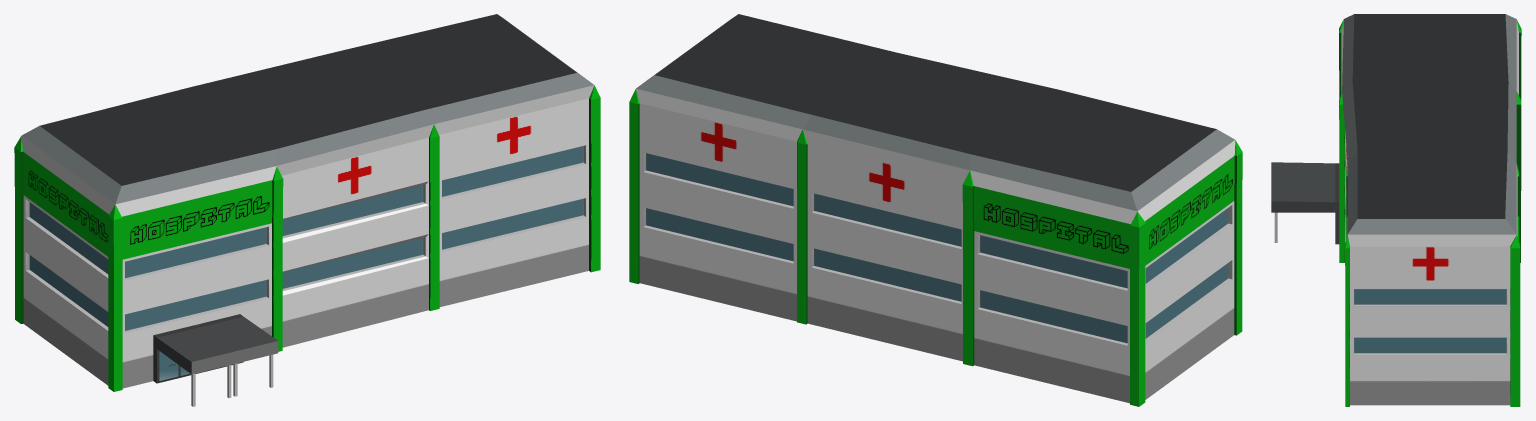
File: Hospital.fbx
3 views of the same model, side by side, from view 1: azimuth 30°, elevation 25°; view 2: azimuth 150°, elevation 25°; view 3: azimuth 270°, elevation 25° (orthographic). The views are drawn at different scales.
Visible parts, largest first — view 1: Hospital; view 2: Hospital; view 3: Hospital.
Boxes of the visible parts, x1,y1,x2,y2 form: Hospital: (14, 14, 600, 406); Hospital: (629, 14, 1242, 406); Hospital: (1271, 14, 1521, 406).
Size of the model in its own units: 1491 by 571 by 716.
